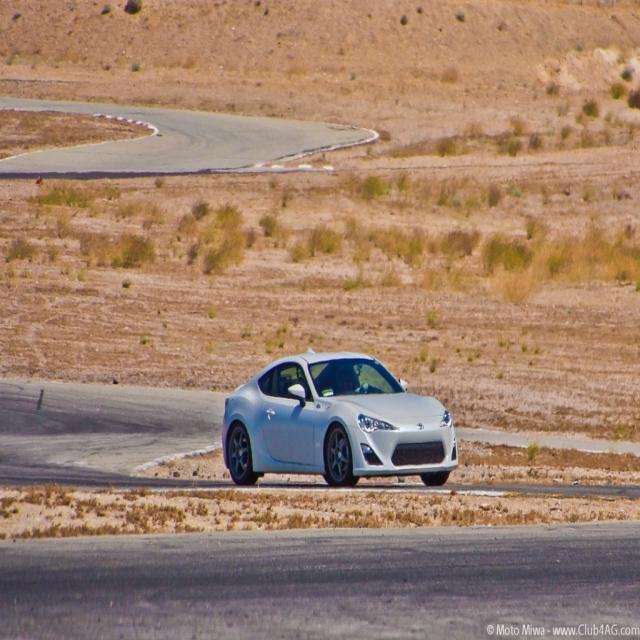car: (214, 345, 460, 489)
